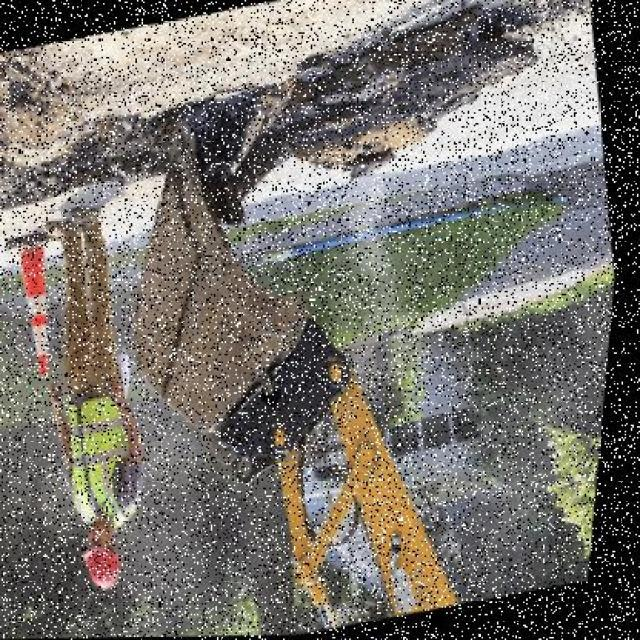helmet: (85, 537, 139, 596)
vest: (56, 391, 149, 531)
